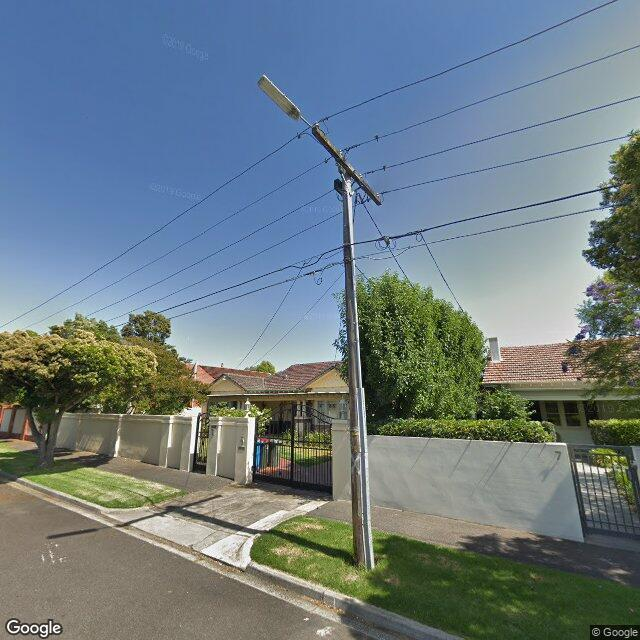crossarm: (312, 126, 382, 206)
streetlight: (257, 74, 312, 129)
timber-pole: (342, 171, 368, 566)
